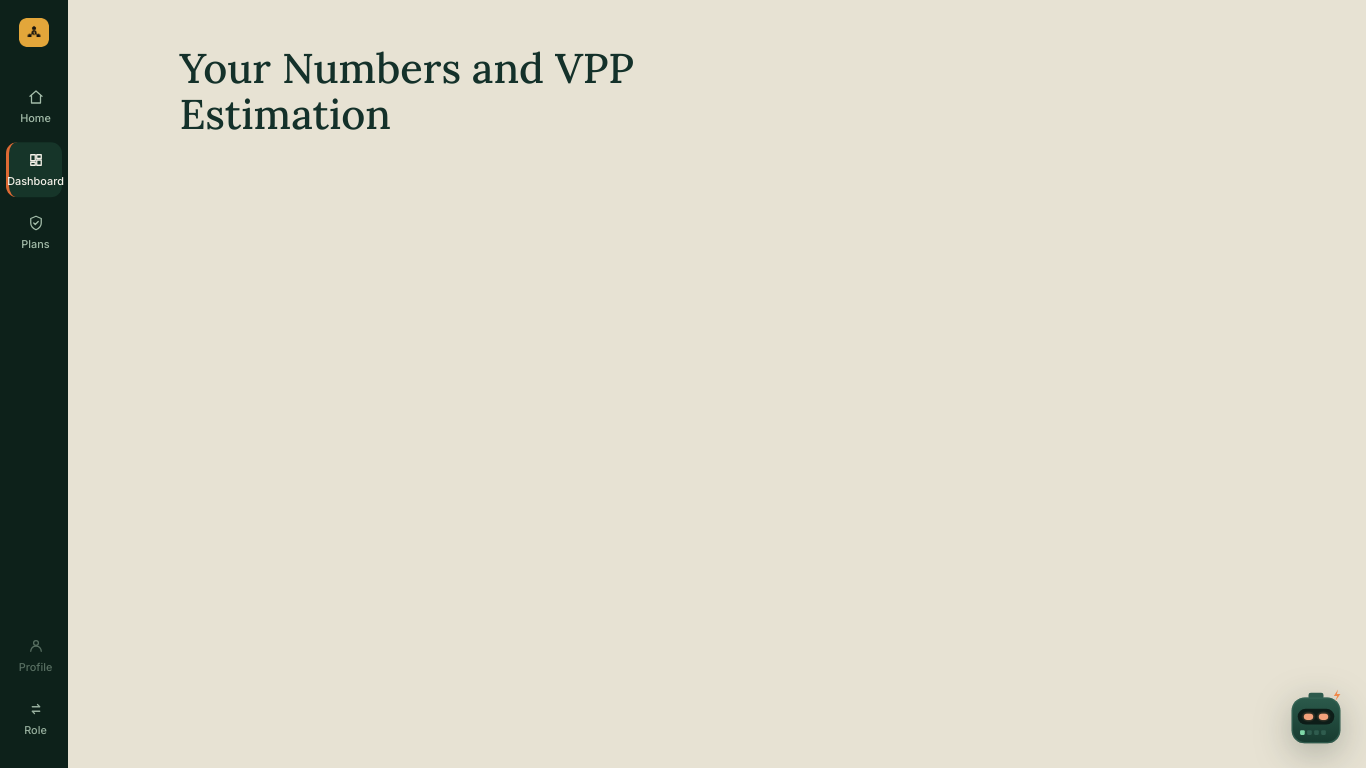
Scenario: Tutorial in the app › offers Actions and Tutorial in the explore robot, with no reminders in Actions
This screenshot has width=1366, height=768.
Click the button named "Assistant" at [1316, 718], box [1282,684,1350,752]
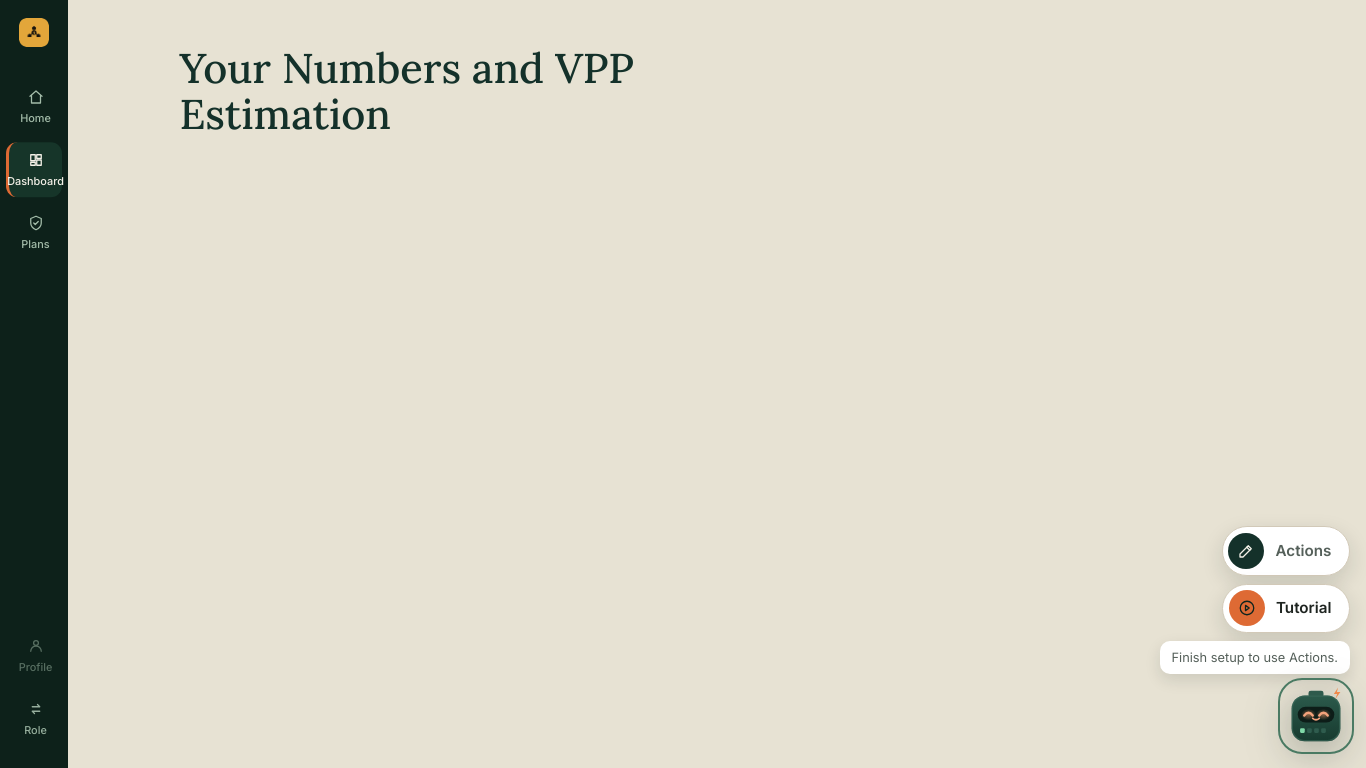
expect the text "Finish setup to use Actions." is shown: met, box [1160,641,1350,674]
expect the button "Tutorial" is shown: met, box [1222,584,1350,633]
Press Escape
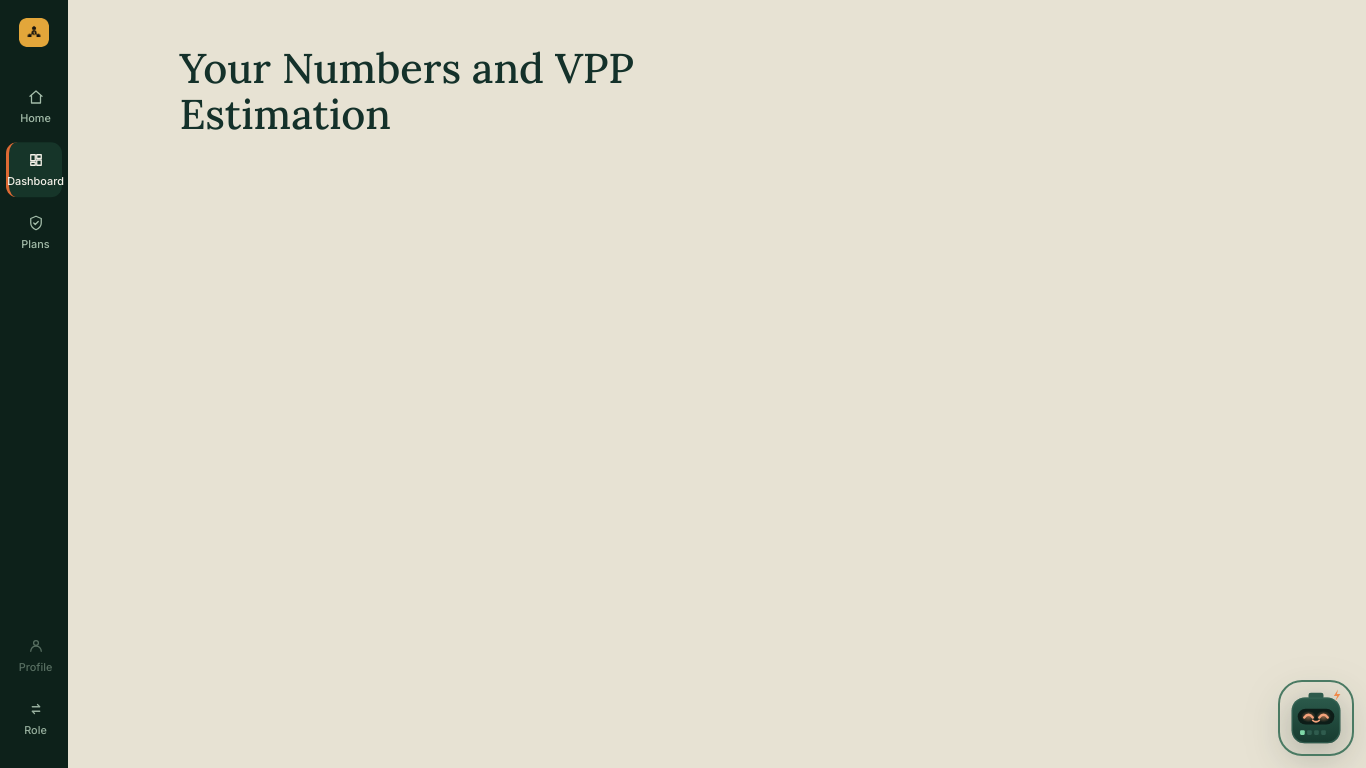
expect the button "Tutorial" is gone: met
